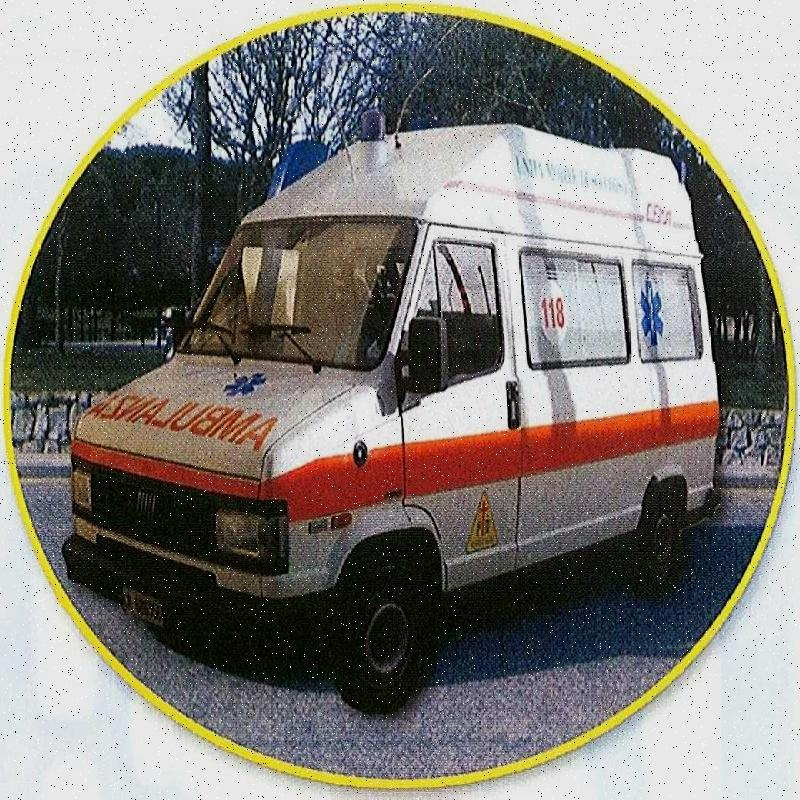ambulance: (67, 113, 732, 709)
